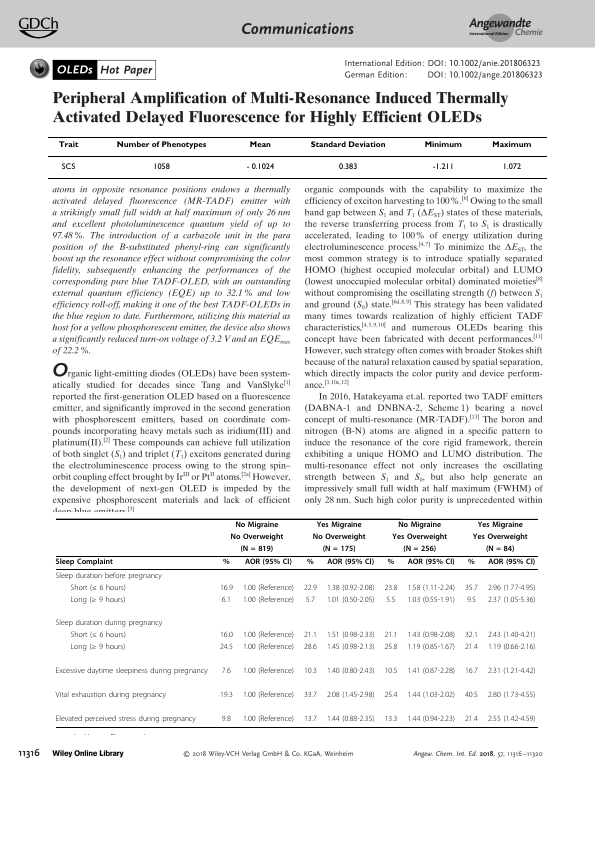borderless: (55, 517, 538, 727), (47, 135, 547, 178)
cell: (55, 667, 209, 676), (55, 715, 197, 724), (55, 571, 163, 581), (55, 619, 163, 629), (55, 691, 167, 700), (115, 140, 207, 149), (309, 140, 386, 149), (69, 583, 127, 593), (69, 631, 127, 641), (69, 595, 126, 605), (69, 643, 126, 653), (55, 558, 114, 567), (242, 583, 295, 593), (242, 595, 295, 605), (242, 631, 295, 641), (242, 643, 295, 653), (391, 533, 448, 542), (472, 533, 528, 542), (406, 583, 456, 593), (406, 595, 456, 605), (406, 631, 456, 641), (406, 643, 456, 653), (326, 583, 375, 593), (487, 583, 536, 593), (326, 595, 375, 605), (487, 595, 536, 605), (326, 631, 375, 641), (487, 631, 536, 641), (326, 643, 375, 653), (487, 643, 536, 653), (230, 533, 284, 542), (312, 533, 366, 542), (242, 667, 295, 676), (242, 691, 295, 700), (242, 715, 295, 724), (406, 667, 456, 676), (406, 691, 456, 700), (406, 715, 456, 724), (244, 558, 293, 567), (326, 558, 375, 567), (487, 558, 536, 567), (326, 667, 375, 676), (487, 667, 536, 676), (326, 691, 375, 700), (487, 691, 536, 700), (326, 715, 375, 724), (487, 715, 536, 724), (407, 558, 455, 567), (316, 521, 363, 530), (477, 521, 524, 530), (234, 521, 279, 530), (397, 521, 442, 530), (491, 140, 532, 149), (423, 140, 462, 149), (239, 545, 274, 554), (402, 545, 437, 554), (322, 545, 356, 554), (485, 545, 515, 554), (245, 162, 275, 170), (248, 140, 271, 149), (57, 140, 79, 149), (431, 162, 454, 170), (501, 162, 522, 170), (338, 162, 358, 170), (219, 583, 234, 593), (303, 583, 318, 593), (383, 583, 398, 593), (464, 583, 479, 593), (219, 631, 234, 641), (303, 631, 318, 641), (383, 631, 398, 641), (464, 631, 479, 641), (219, 643, 234, 653), (303, 643, 318, 653), (383, 643, 398, 653), (464, 643, 479, 653), (152, 162, 170, 170), (303, 667, 318, 676), (383, 667, 398, 676), (464, 667, 479, 676), (219, 691, 234, 700), (303, 691, 318, 700), (383, 691, 398, 700), (464, 691, 479, 700), (303, 715, 318, 724), (383, 715, 398, 724), (464, 715, 479, 724), (60, 162, 76, 170), (221, 595, 232, 605), (305, 595, 316, 605), (385, 595, 396, 605), (466, 595, 477, 605), (221, 667, 232, 676), (221, 715, 232, 724), (222, 558, 231, 567), (306, 558, 315, 567), (386, 558, 395, 567), (467, 558, 476, 567)
